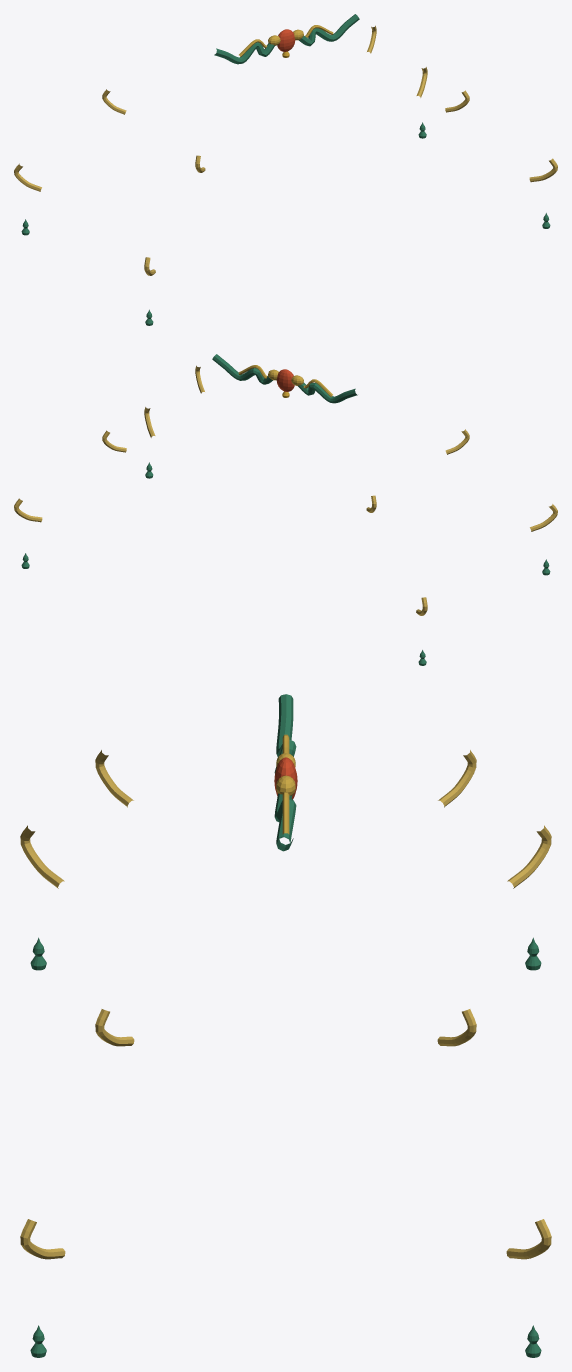
The model's file is hiennhon-hero.glb.
3 renders of one model, top to bottom at view 1: azimuth 30°, elevation 25°; view 2: azimuth 150°, elevation 25°; view 3: azimuth 270°, elevation 25°, orthographic. The views are drawn at different scales.
Visible parts, largest first — view 1: hiennhon_hero_ornaments; view 2: hiennhon_hero_ornaments; view 3: hiennhon_hero_ornaments.
Boxes of the visible parts, <box> form: hiennhon_hero_ornaments: <box>14,14,557,325</box>; hiennhon_hero_ornaments: <box>14,354,557,665</box>; hiennhon_hero_ornaments: <box>20,694,551,1357</box>.
Size of the model in its own units: 14.45 by 6.77 by 8.05.
